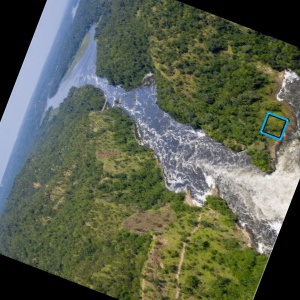square: (258, 110, 290, 142)
